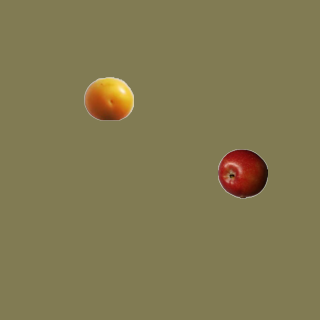Apple Braeburn: (217, 148, 267, 198)
Cherry Wax Yellow: (83, 73, 133, 123)
